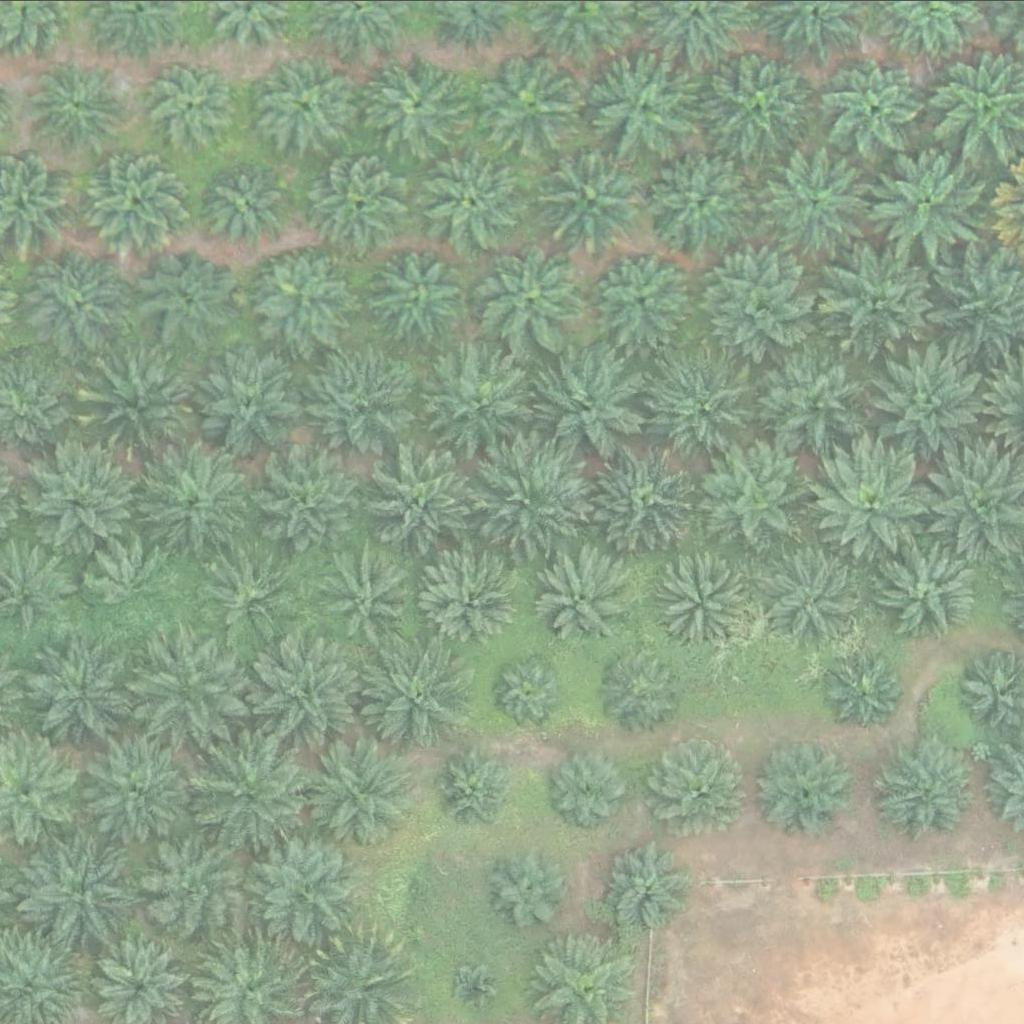Kelapa_Sawit: (351, 638, 465, 751), (82, 735, 196, 848), (192, 738, 306, 851), (21, 835, 135, 948), (78, 142, 191, 255), (191, 343, 304, 456), (301, 347, 414, 460), (25, 438, 138, 551), (138, 447, 251, 560), (255, 441, 368, 554), (302, 733, 415, 846), (142, 831, 255, 944), (473, 439, 586, 552), (590, 438, 703, 551), (421, 342, 534, 455), (535, 345, 648, 458), (646, 351, 759, 464), (761, 343, 874, 456), (701, 243, 814, 356), (815, 240, 928, 353), (588, 50, 701, 163), (366, 442, 480, 554), (132, 635, 246, 747), (249, 633, 363, 745), (86, 347, 199, 459), (26, 637, 139, 749), (249, 827, 362, 939), (699, 444, 812, 556), (820, 445, 933, 557), (872, 342, 985, 454), (475, 239, 588, 351), (414, 144, 527, 256), (541, 137, 654, 249), (647, 144, 760, 256), (766, 144, 879, 256), (872, 147, 985, 259), (706, 44, 819, 156), (27, 55, 128, 155), (255, 54, 356, 154), (372, 54, 473, 154), (309, 150, 410, 250), (26, 254, 127, 354), (142, 245, 243, 345), (252, 244, 353, 344), (366, 247, 467, 347), (874, 743, 975, 843), (423, 551, 524, 651), (535, 545, 636, 645), (653, 550, 754, 650), (592, 245, 693, 345), (826, 55, 927, 155), (199, 547, 299, 647), (318, 543, 418, 643), (648, 733, 748, 833), (755, 738, 855, 838), (767, 540, 867, 640), (880, 538, 980, 638), (476, 53, 576, 153), (204, 158, 292, 246), (89, 542, 177, 630), (600, 836, 688, 924), (147, 59, 235, 146), (485, 843, 573, 930), (435, 744, 523, 831), (544, 747, 632, 834), (599, 645, 687, 732), (827, 652, 903, 727), (491, 654, 566, 729), (449, 962, 500, 1012), (386, 865, 436, 915)
